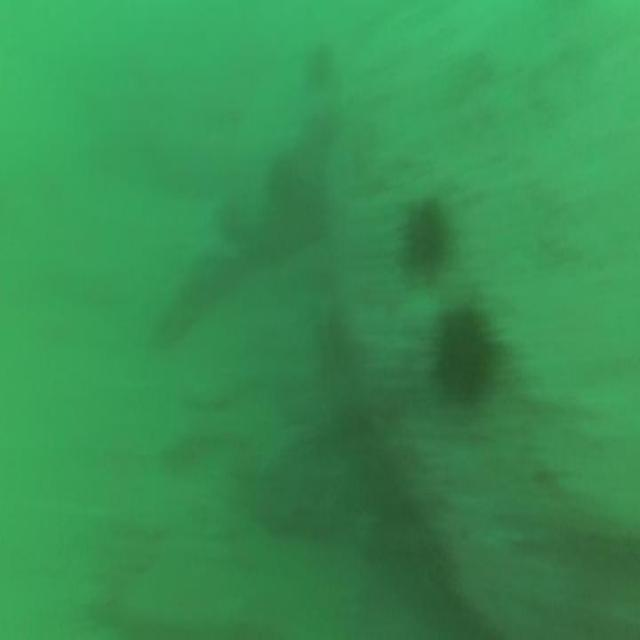echinus: (426, 283, 505, 419), (389, 183, 455, 284)
